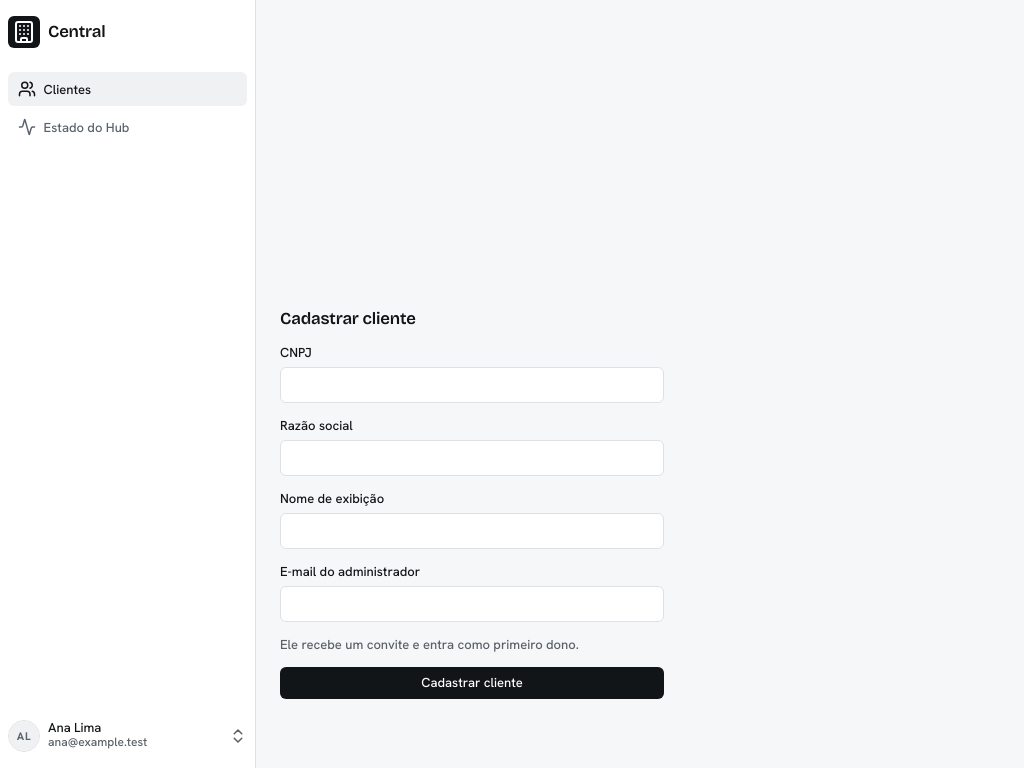
Test: o endereço do administrador recusado: o cliente foi cadastrado e abre, dizendo que o convite não chegou
The image size is (1024, 768).
(page scrolled)
expect the text "Ele recebe um convite e entra como primeiro dono." is shown: met, box [280,636,579,653]
Step 1. Type "12.abc.345/01de-35" into the field labelled "CNPJ" → (472, 385), box [280,367,664,403]
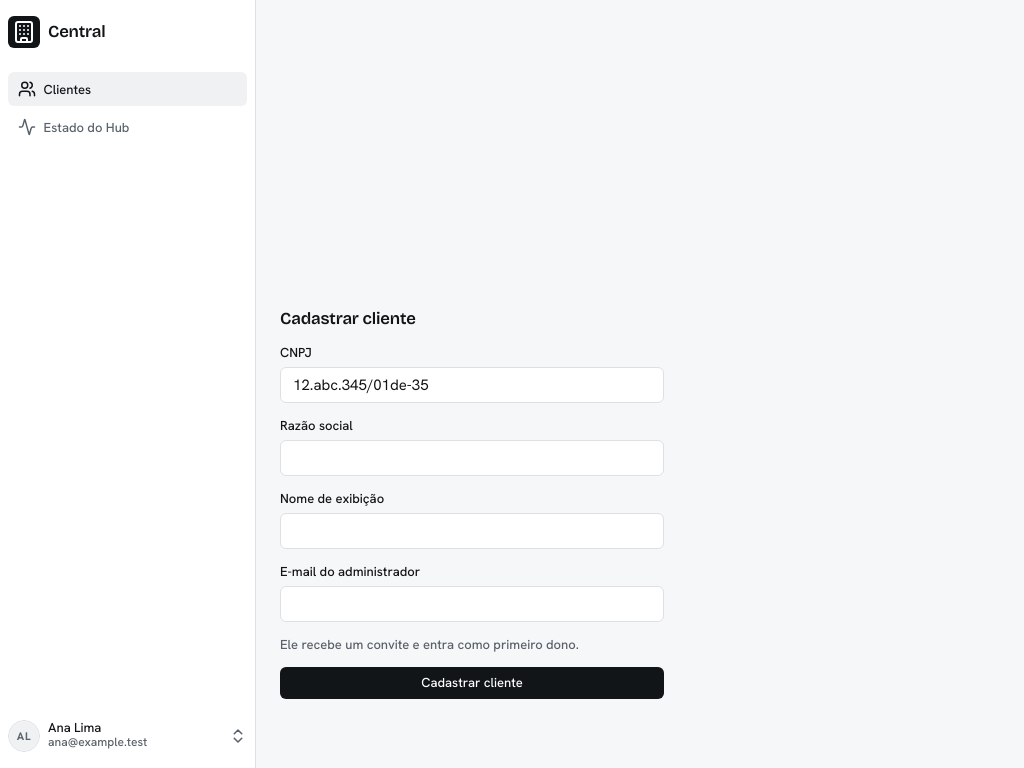
Step 2. Type "Empresa Teste Ltda" into the field labelled "Razão social" → (472, 458), box [280,440,664,476]
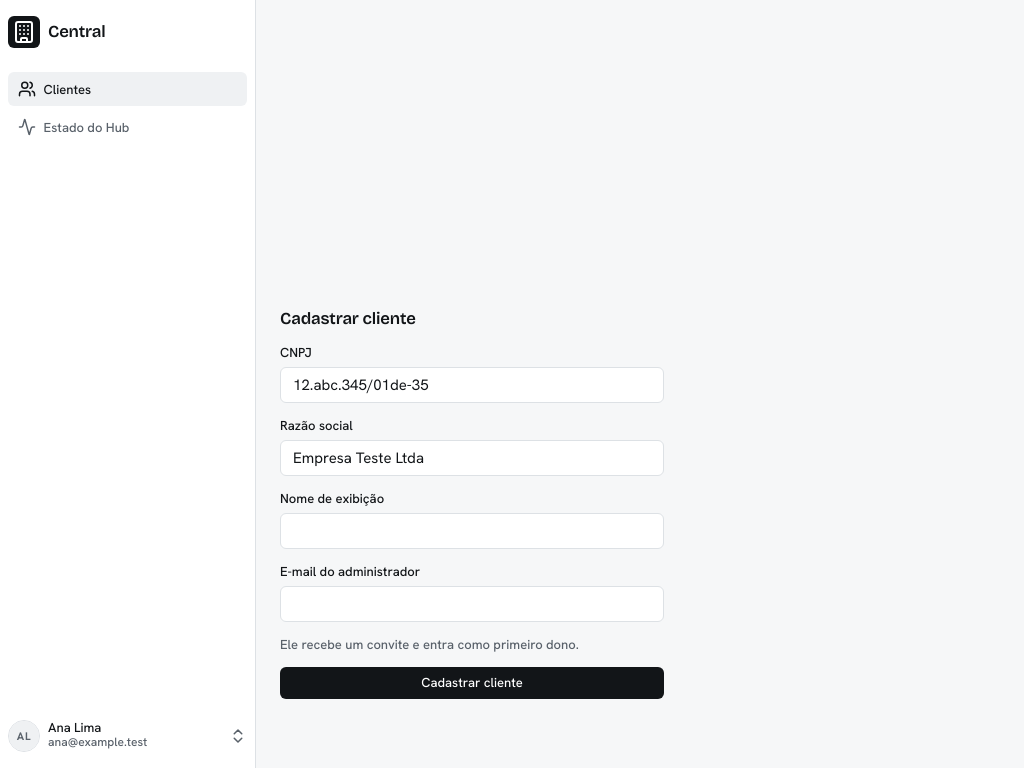
Step 3. Type "Empresa Teste" into the field labelled "Nome de exibição" → (472, 531), box [280,513,664,549]
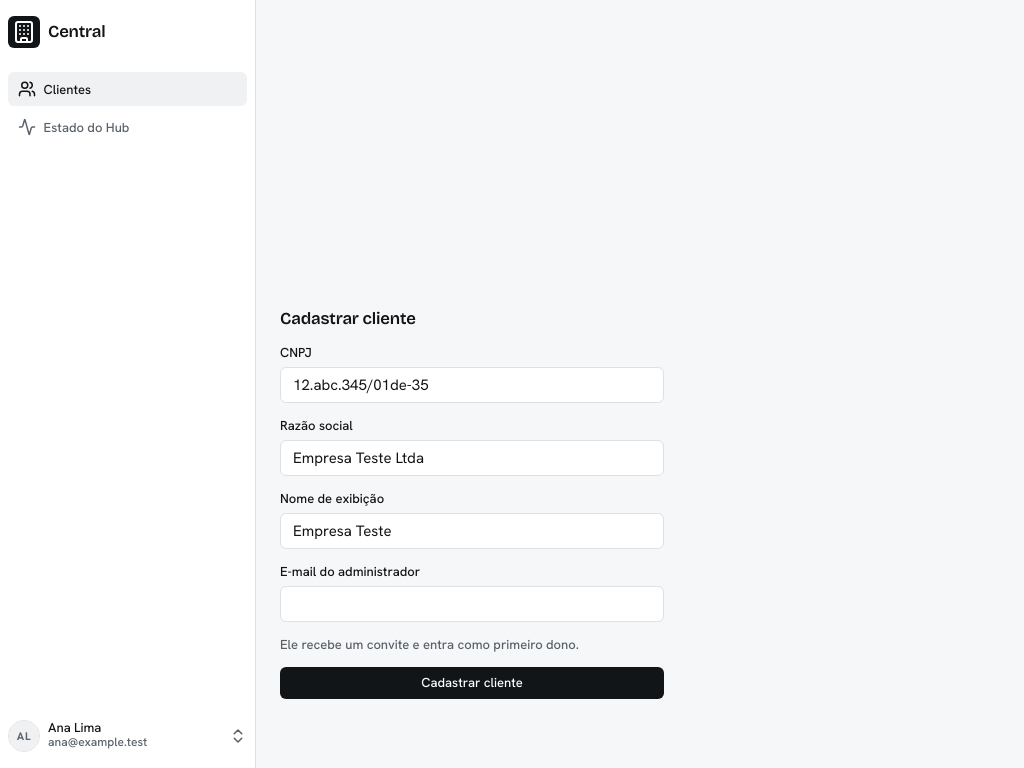
Step 4. Type "davi@example.test" into the field labelled "E-mail do administrador" → (472, 604), box [280,586,664,622]
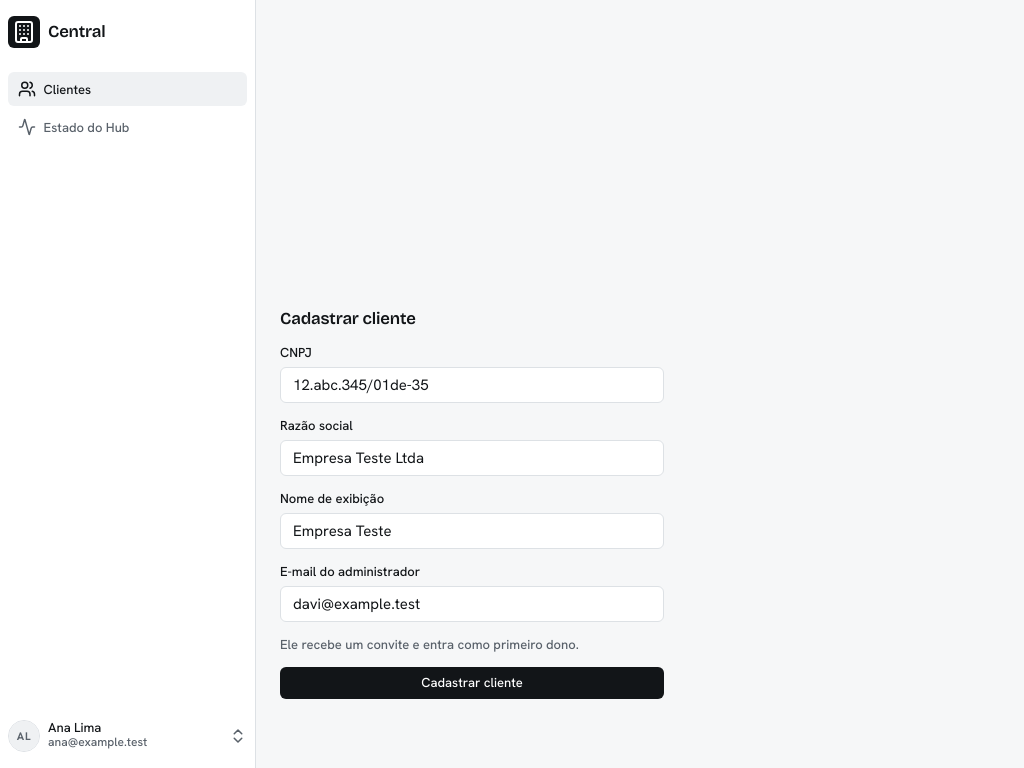
Step 5. Click the button "Cadastrar cliente" → (472, 683), box [280,667,664,699]
(page scrolled)
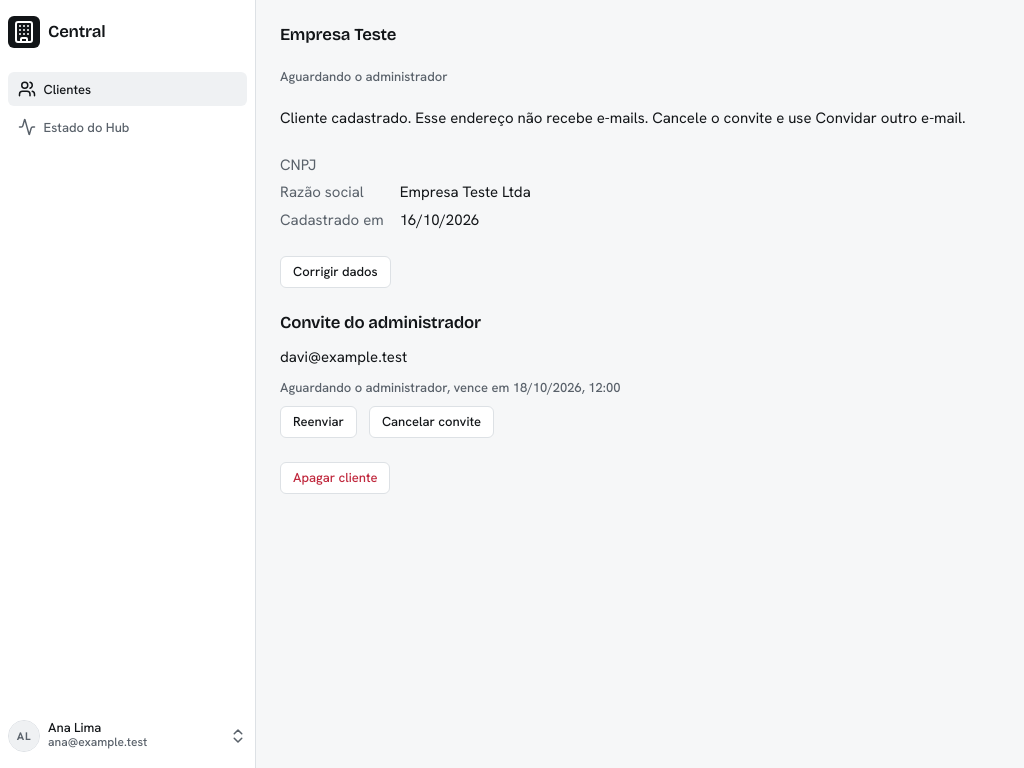
expect the heading "Empresa Teste" is shown: met, box [280,24,396,45]
expect the button "Cancelar convite" is shown: met, box [369,406,494,438]
